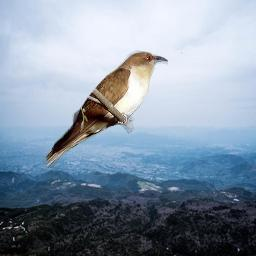Cuckoo: (46, 50, 168, 168)
